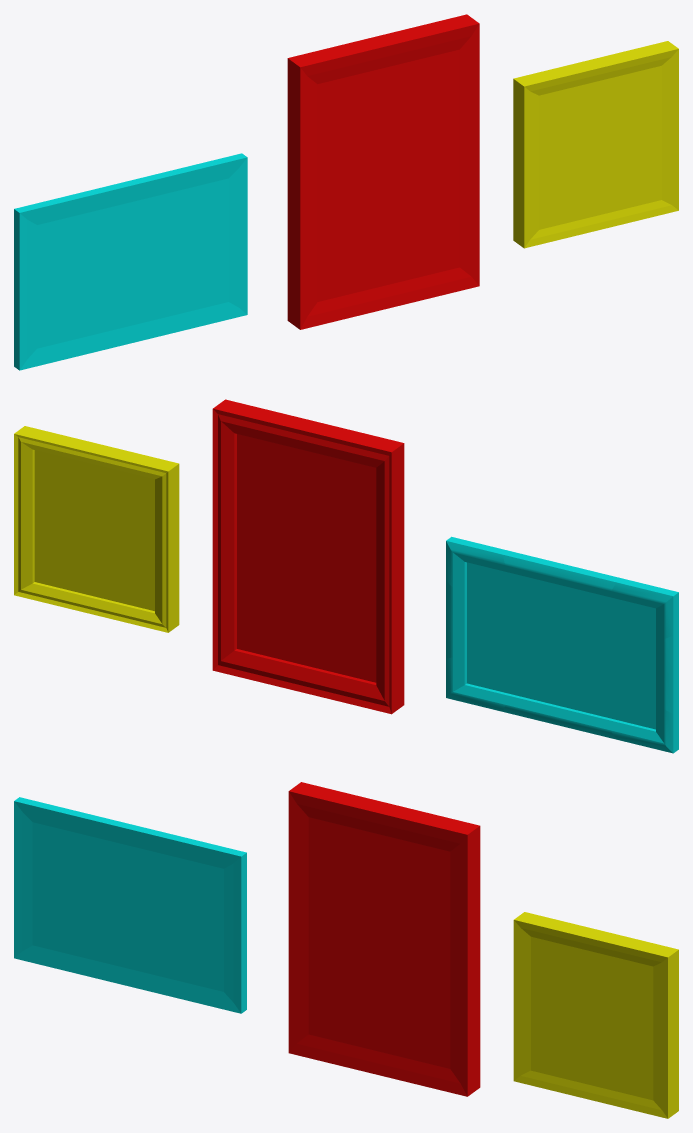
Rendered from paintingframes.fbx.
The picture shows the model from 3 angles, top to bottom: view 1: azimuth 30°, elevation 25°; view 2: azimuth 150°, elevation 25°; view 3: azimuth 330°, elevation 25°; orthographic projection.
Parts seen in each view (by area): view 1: pCube3, pCube5, pCube4; view 2: pCube3, pCube5, pCube4; view 3: pCube3, pCube5, pCube4.
Boxes of the visible parts, left/top/right/bottom form: pCube3: left=287, top=14, right=479, bottom=329; pCube5: left=14, top=153, right=247, bottom=370; pCube4: left=513, top=41, right=678, bottom=248; pCube3: left=212, top=399, right=404, bottom=714; pCube5: left=446, top=536, right=678, bottom=753; pCube4: left=14, top=426, right=179, bottom=632; pCube3: left=288, top=782, right=480, bottom=1096; pCube5: left=14, top=797, right=246, bottom=1013; pCube4: left=513, top=912, right=678, bottom=1118.
Bounding box in the file's own units: 18.03 × 6.88 × 0.5985.
